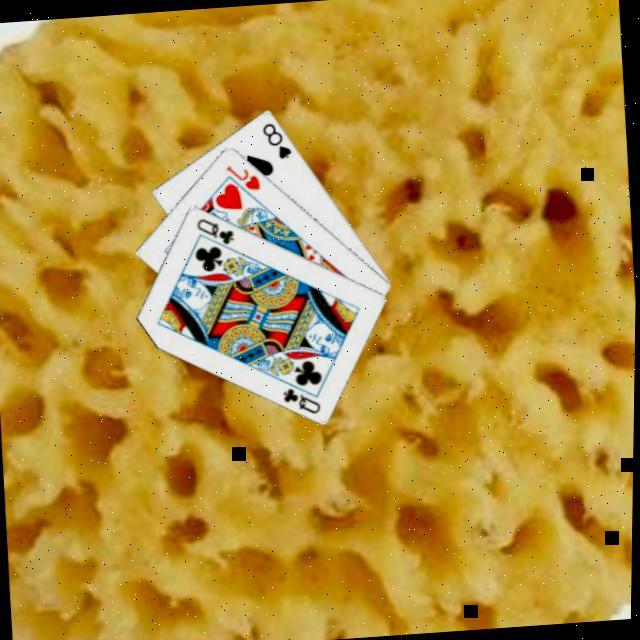8S: (260, 118, 299, 164)
JH: (225, 160, 265, 196)
QC: (281, 383, 327, 420), (195, 213, 239, 251)
